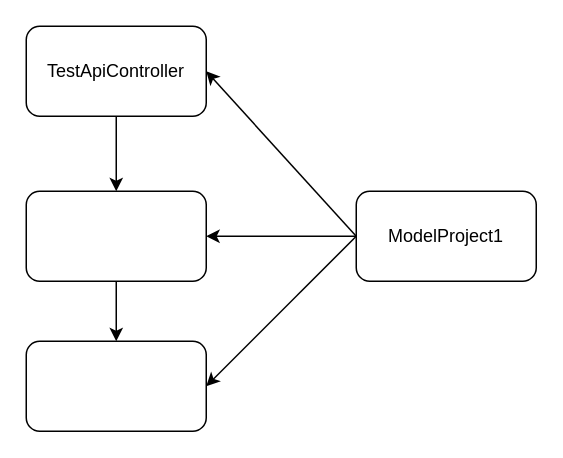
Image size: 563x458. Some labels were removed from this diagram. Here are the shapes that lost their labels. From the top down, the centre of each, then its label:
At point 115,235: "BuisnessProject1".
At point 115,385: "RepoProject1".
